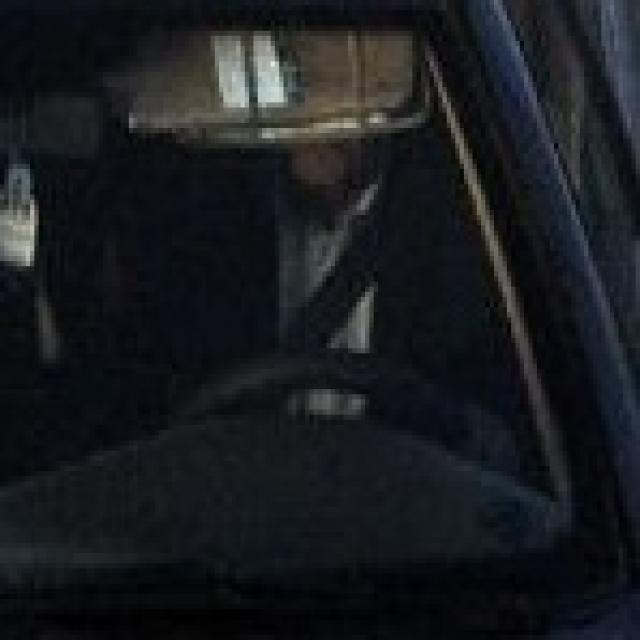seatbelt: (288, 148, 460, 338)
